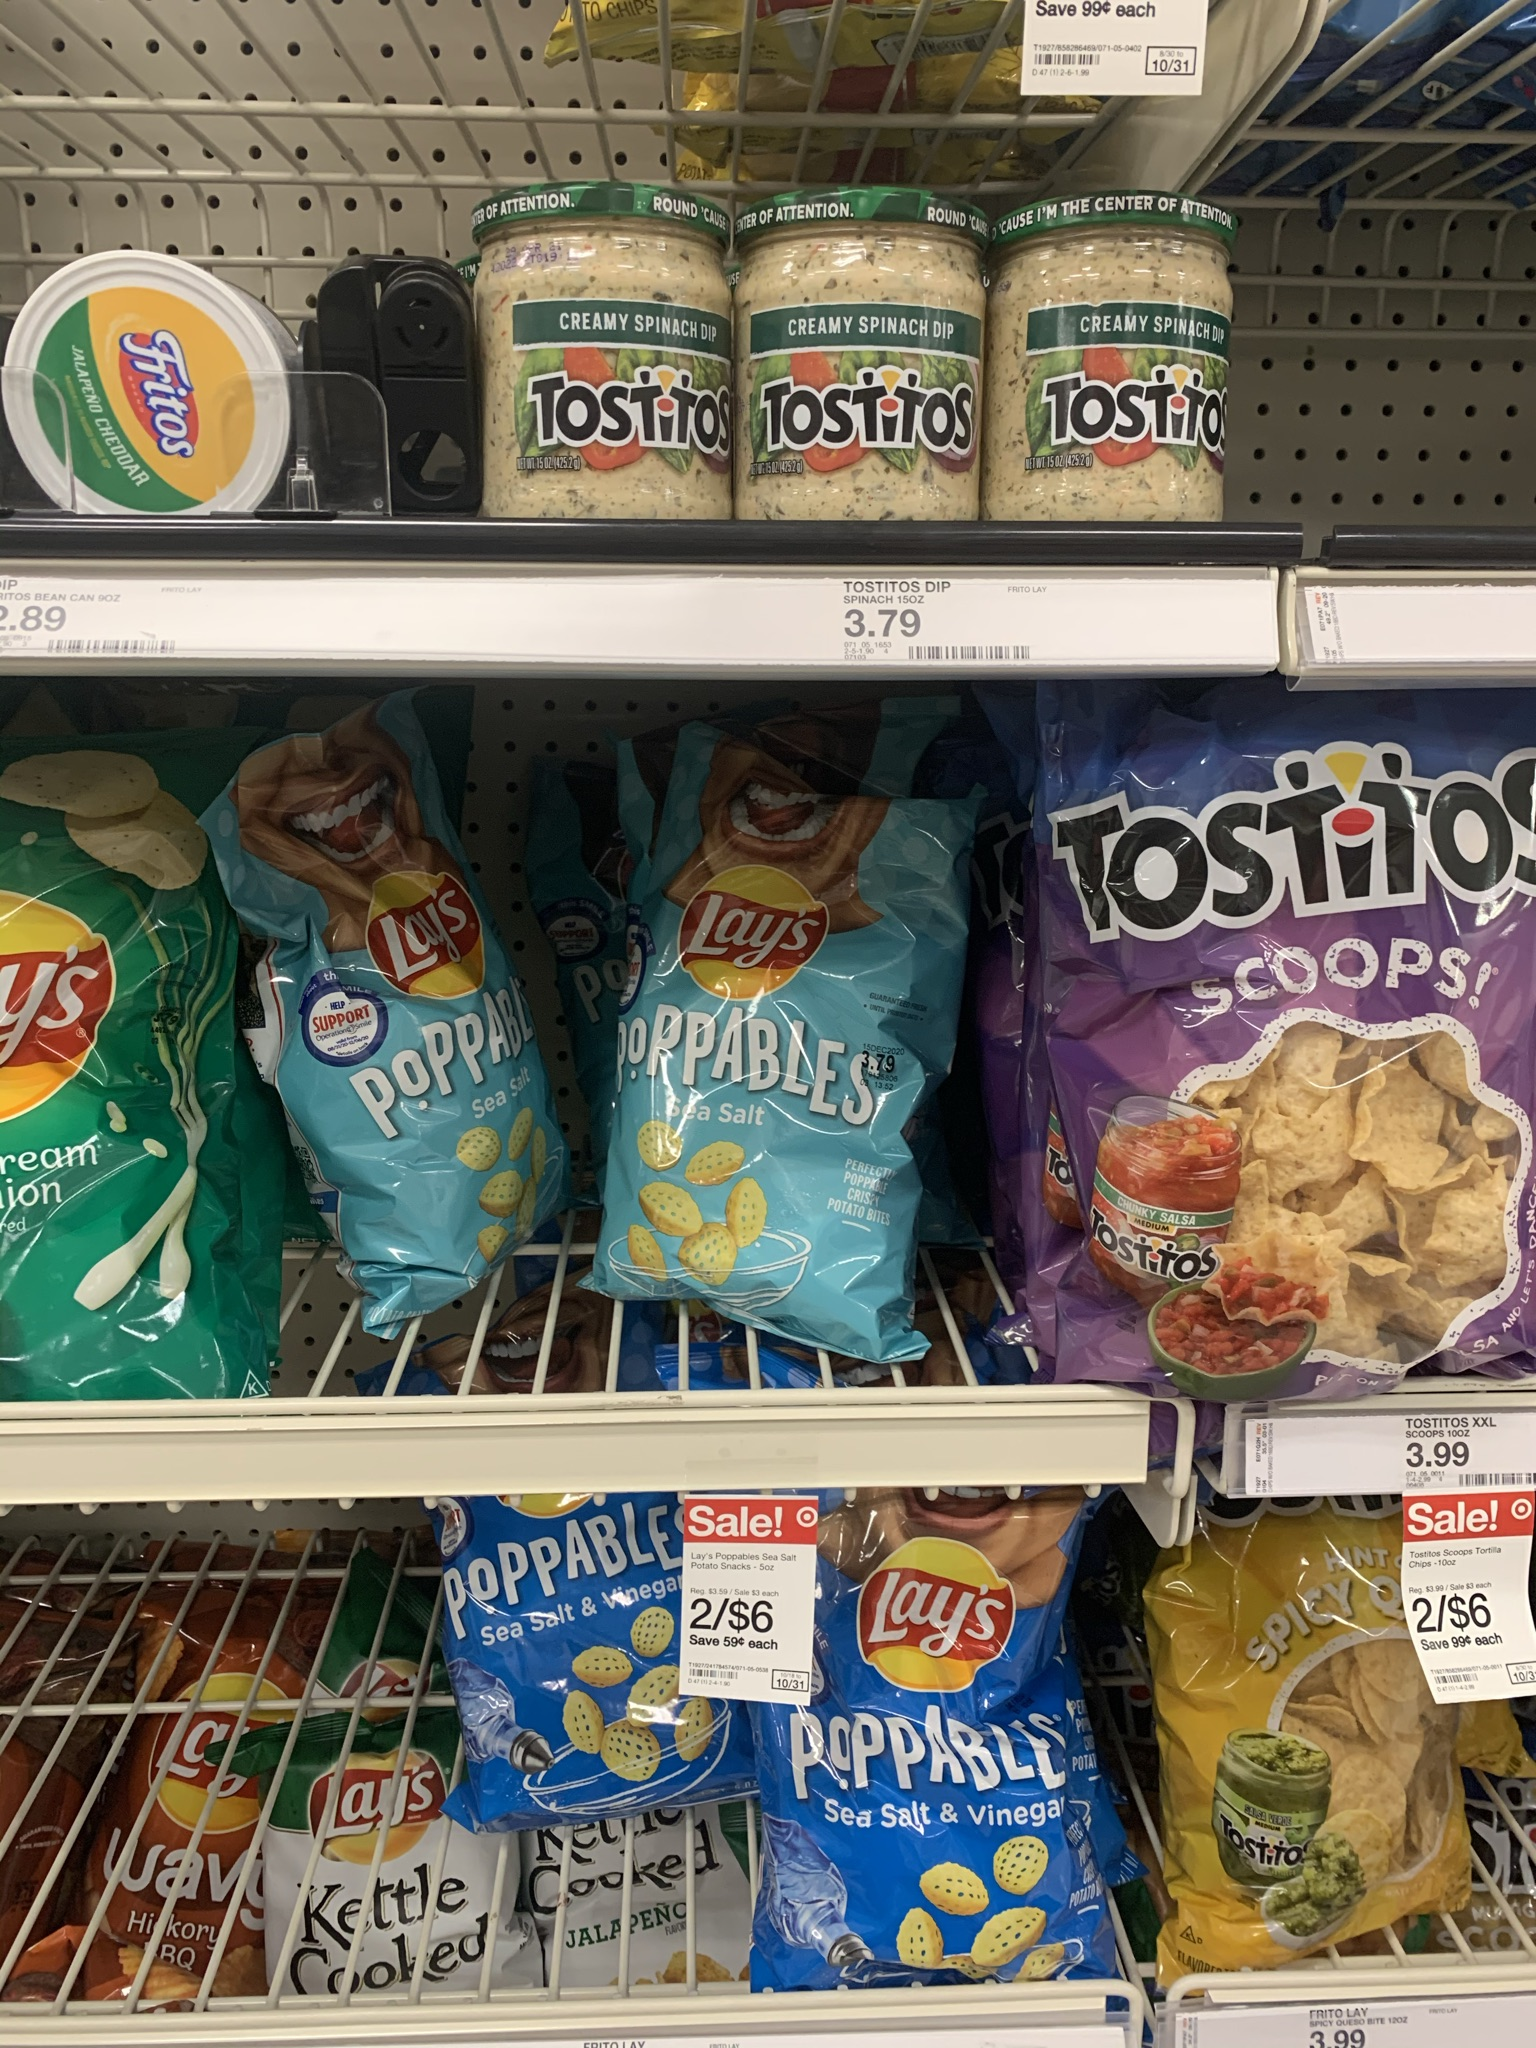lays: (2, 814, 307, 1271), (244, 780, 573, 1193), (844, 1509, 1104, 2001), (689, 729, 894, 1335), (458, 1509, 728, 1746), (273, 1743, 523, 1966)
tostitos chips: (1071, 769, 1536, 1309), (1184, 1501, 1517, 1946)
